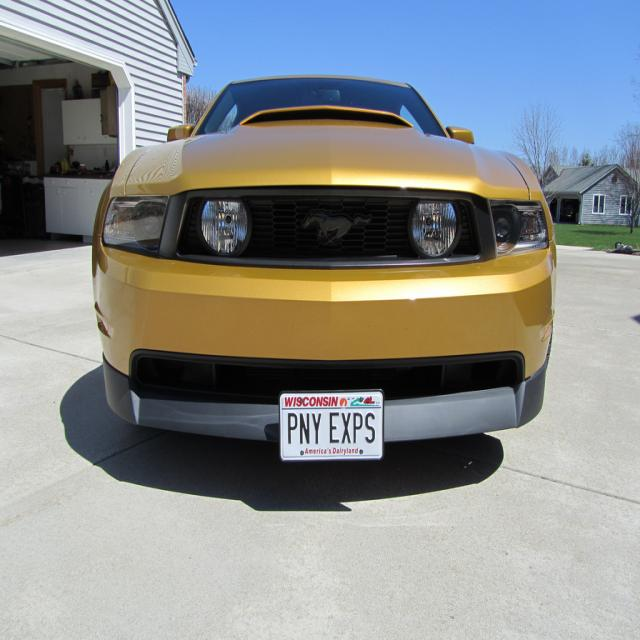Number-Plate: (282, 402, 380, 458)
